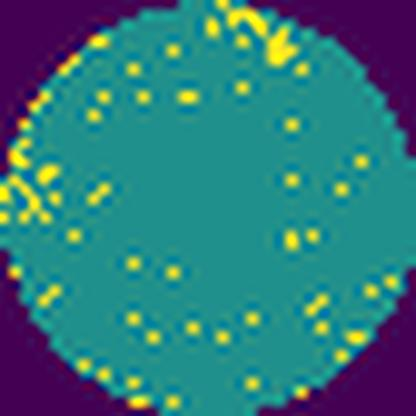Loc: (228, 9, 298, 61)
